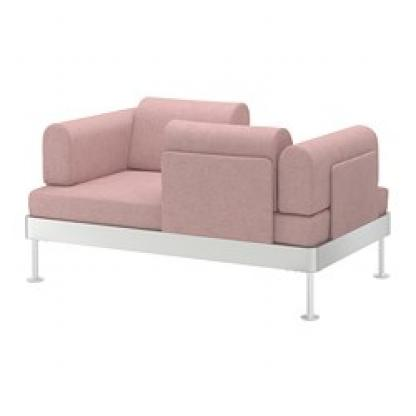Sofa: (22, 78, 394, 326)
